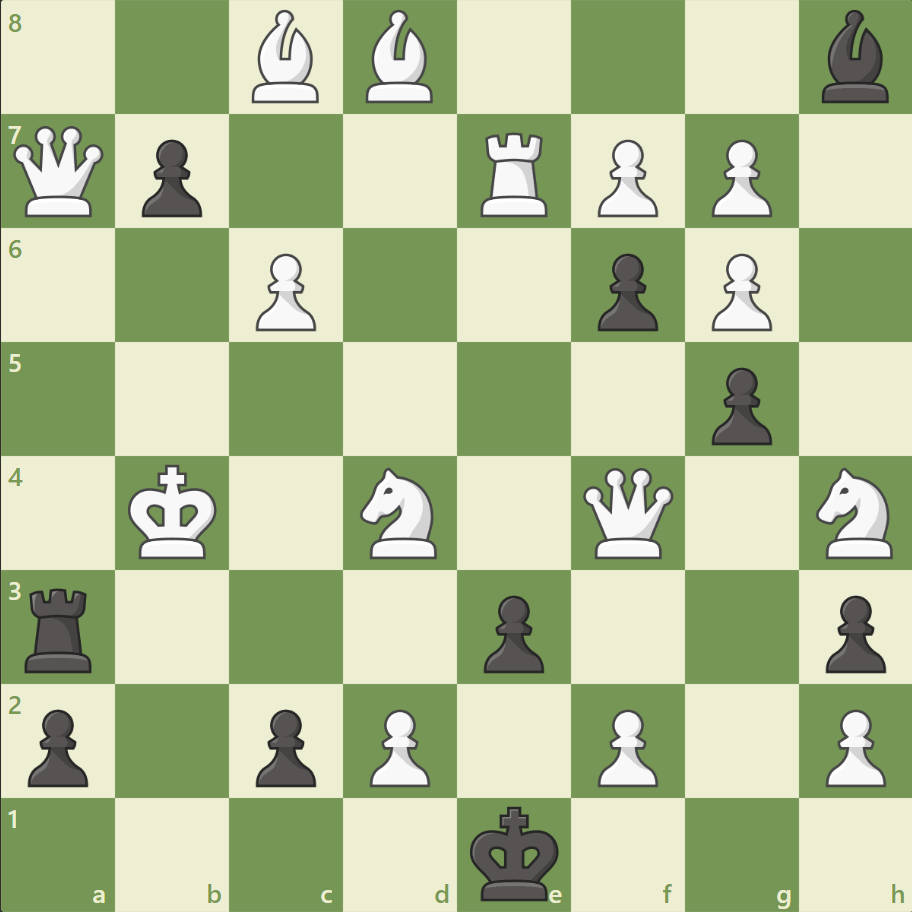B: (244, 6, 328, 109), (358, 6, 442, 109)
K: (124, 458, 224, 566)
N: (351, 461, 449, 564), (806, 461, 903, 564)
P: (701, 132, 776, 223), (247, 246, 322, 337), (701, 246, 776, 337), (588, 132, 662, 223), (361, 700, 435, 791), (588, 700, 662, 791), (815, 700, 889, 791)
Q: (10, 122, 109, 222), (578, 463, 677, 562)
R: (473, 125, 556, 222)
b: (812, 6, 896, 109)
k: (465, 798, 565, 906)
p: (133, 132, 208, 223), (701, 359, 776, 450), (474, 586, 549, 677), (20, 700, 95, 791), (247, 700, 322, 791), (588, 246, 662, 337), (815, 586, 889, 677)
r: (19, 579, 102, 676)
